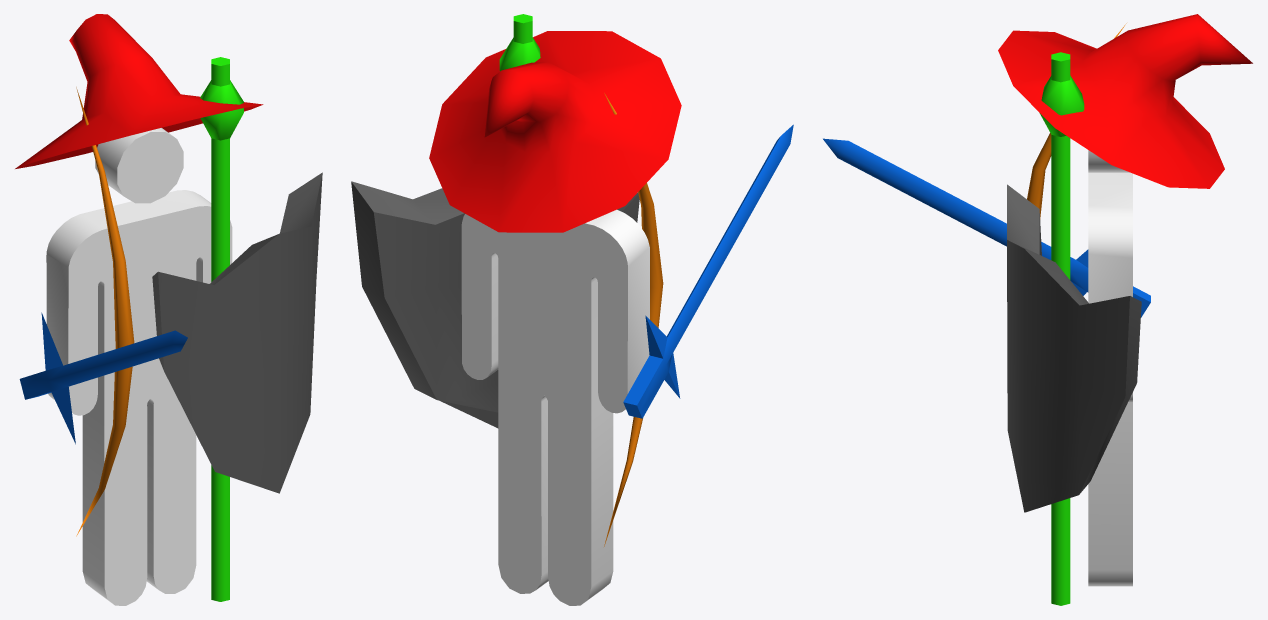
Rendered from hero.FBX.
The picture shows the model from 3 angles, left to right: view 1: azimuth 30°, elevation 25°; view 2: azimuth 150°, elevation 25°; view 3: azimuth 270°, elevation 25°; orthographic projection.
Parts seen in each view (by area): view 1: dude, shield, hat, staff, sword, bow; view 2: dude, hat, shield, sword, bow, staff; view 3: shield, hat, dude, staff, sword, bow.
Boxes of the visible parts, bbox=[...] form: dude: bbox=[46, 128, 232, 605]; shield: bbox=[152, 172, 322, 493]; hat: bbox=[15, 14, 263, 168]; staff: bbox=[200, 57, 243, 601]; sword: bbox=[19, 312, 187, 444]; bow: bbox=[76, 87, 134, 536]; dude: bbox=[461, 209, 649, 605]; hat: bbox=[429, 31, 681, 232]; shield: bbox=[351, 181, 639, 428]; sword: bbox=[623, 124, 793, 418]; bow: bbox=[604, 93, 663, 546]; staff: bbox=[499, 14, 540, 71]; shield: bbox=[1007, 184, 1141, 512]; hat: bbox=[998, 14, 1252, 188]; dude: bbox=[1088, 150, 1132, 586]; staff: bbox=[1039, 52, 1084, 605]; sword: bbox=[823, 138, 1150, 317]; bow: bbox=[1027, 23, 1126, 219].
Size of the model in its own units: 0.2414 by 0.4153 by 0.2914.
